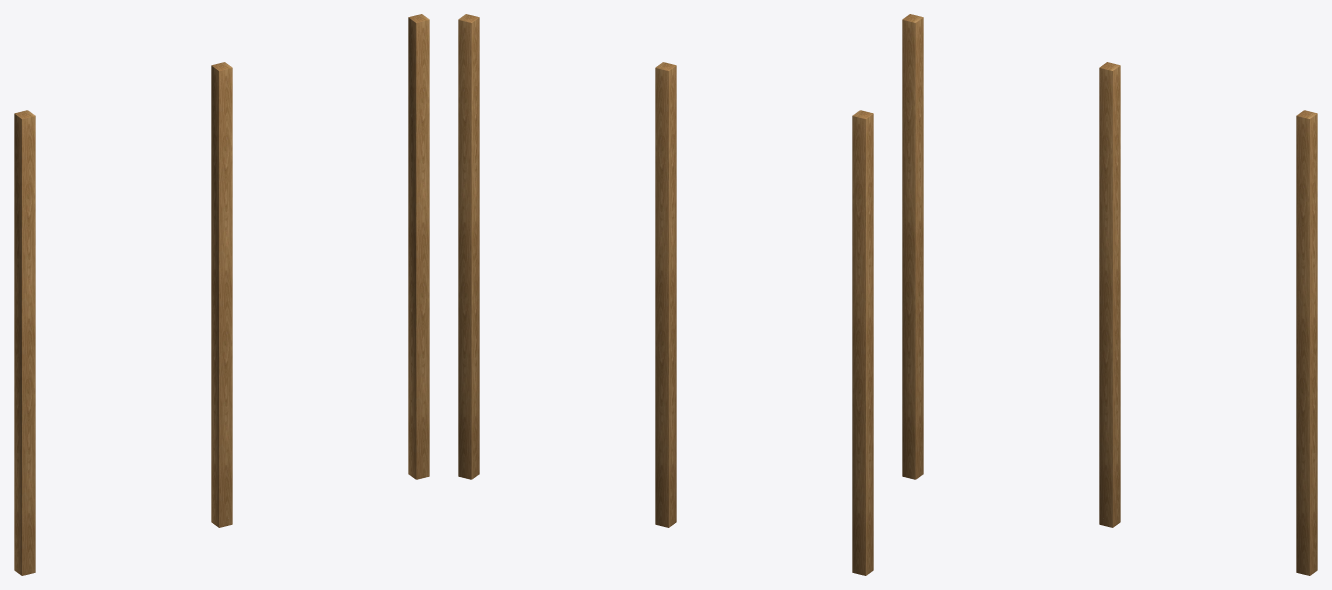
File: SER-TAP-002_anim.glb
3 views of the same model, side by side, from view 1: azimuth 30°, elevation 25°; view 2: azimuth 150°, elevation 25°; view 3: azimuth 330°, elevation 25° (orthographic).
Visible parts, largest first — view 1: SER-TAP-002_anim0; view 2: SER-TAP-002_anim0; view 3: SER-TAP-002_anim0.
Part boxes in pixels (bbox=[...]): SER-TAP-002_anim0: bbox=[14, 14, 429, 575]; SER-TAP-002_anim0: bbox=[458, 14, 873, 575]; SER-TAP-002_anim0: bbox=[902, 14, 1317, 575].
Size of the model in its own units: 2.19 by 2.35 by 0.0954.
Materials: 2 (1 with a texture image).
